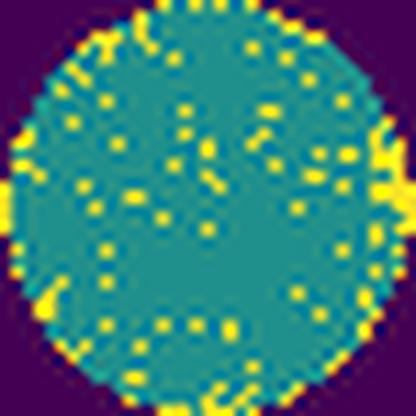Edge-Loc: (364, 115, 416, 245), (206, 379, 265, 416), (157, 399, 194, 416)
